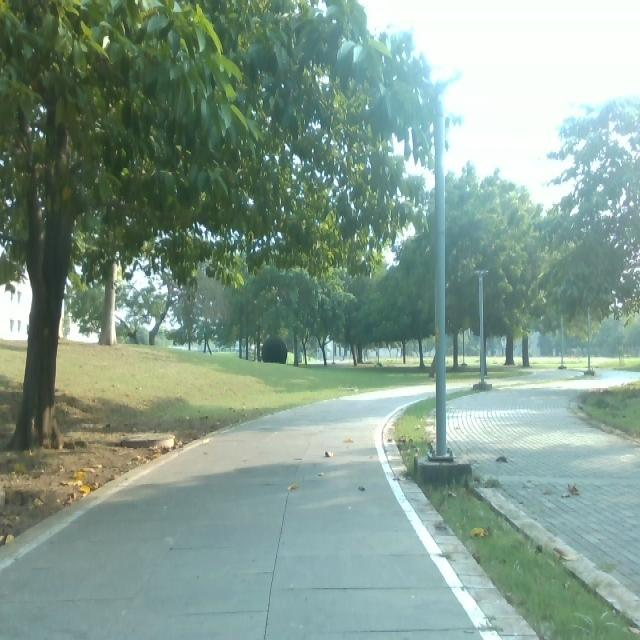lane: (0, 384, 483, 639)
